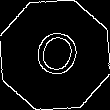O_S: (26, 24, 84, 86)
